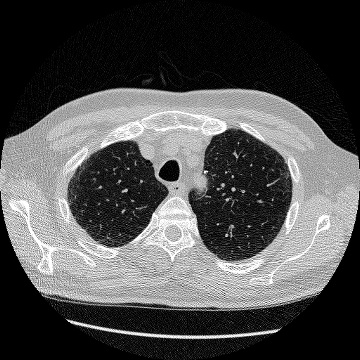PN: (203, 170, 207, 174)
